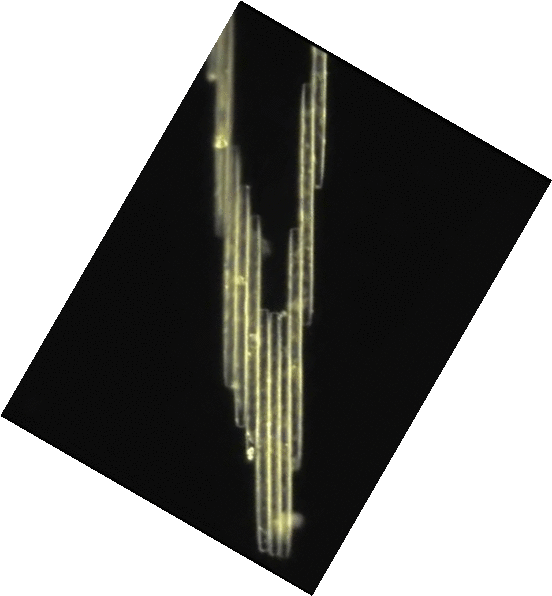bacilleria: (215, 28, 232, 238), (226, 145, 240, 391), (288, 229, 302, 471), (278, 311, 291, 556), (301, 84, 313, 325), (237, 186, 249, 427), (246, 215, 257, 461), (258, 308, 269, 553), (270, 312, 280, 557), (311, 46, 325, 189)
